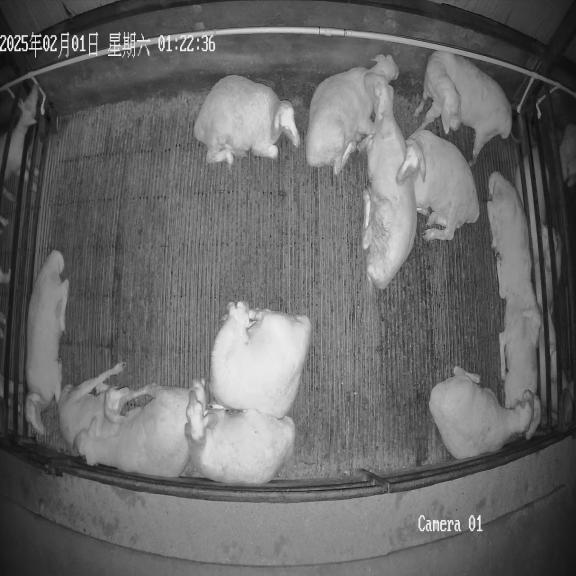lying: (359, 72, 417, 289), (209, 302, 311, 418), (75, 382, 197, 477), (305, 54, 399, 174), (184, 390, 295, 484), (429, 366, 538, 459), (194, 75, 300, 166), (487, 172, 541, 346), (396, 129, 479, 240), (26, 250, 69, 436), (58, 363, 147, 450), (499, 312, 541, 439)
stand: (422, 52, 512, 165)
